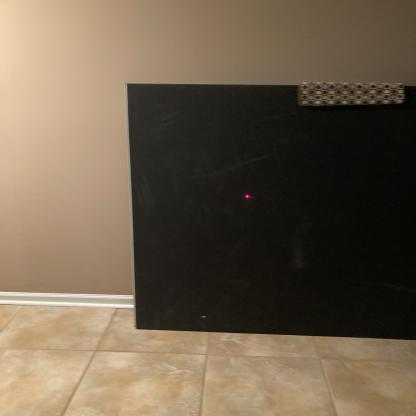target: (240, 187, 255, 203)
